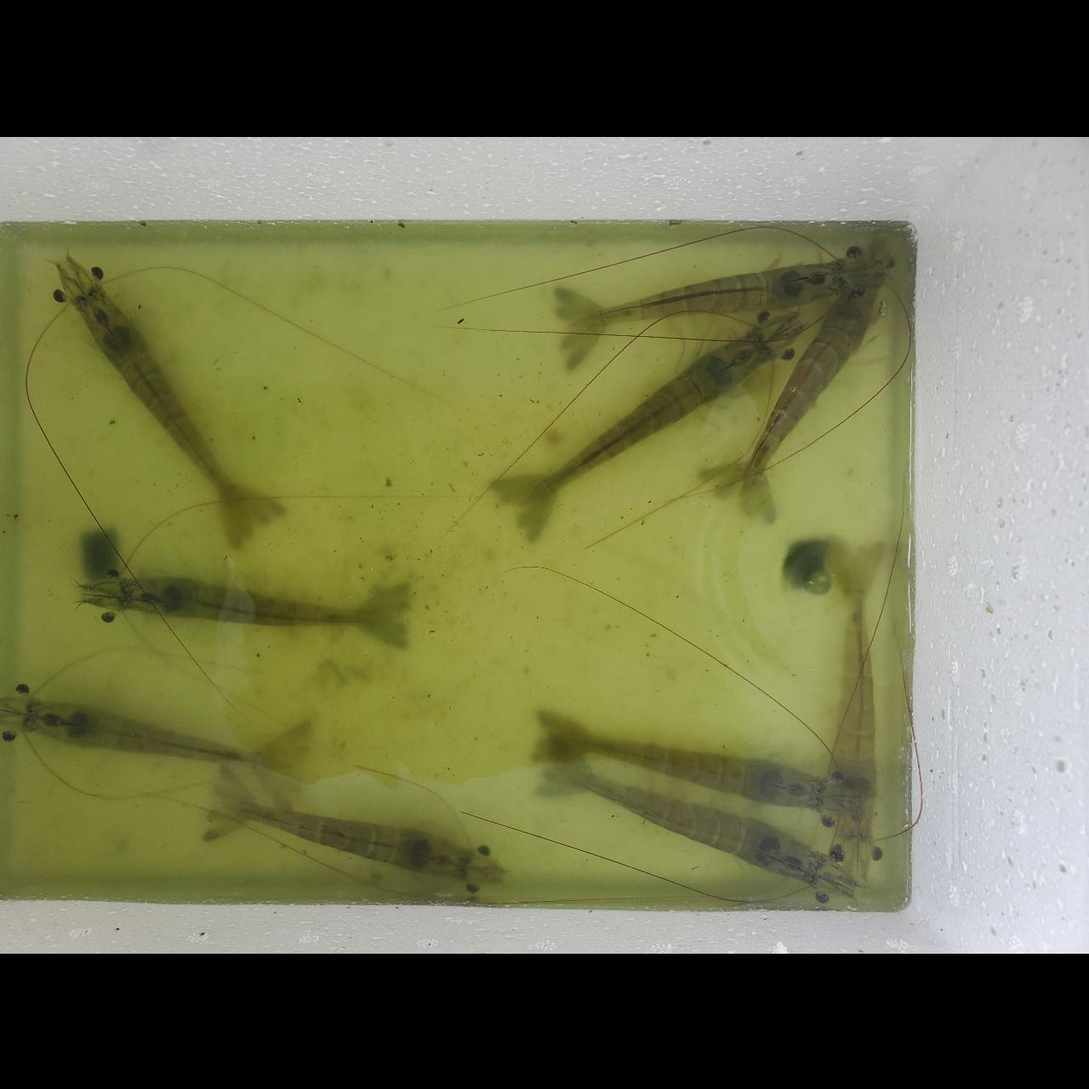box: (783, 534, 830, 589), (79, 530, 118, 585)
top_shrimp: (518, 331, 763, 505), (77, 287, 246, 525), (554, 765, 824, 881), (739, 276, 874, 499), (549, 733, 821, 807), (24, 699, 295, 771), (221, 801, 470, 879), (566, 263, 843, 325), (117, 574, 398, 627), (824, 550, 875, 837)
